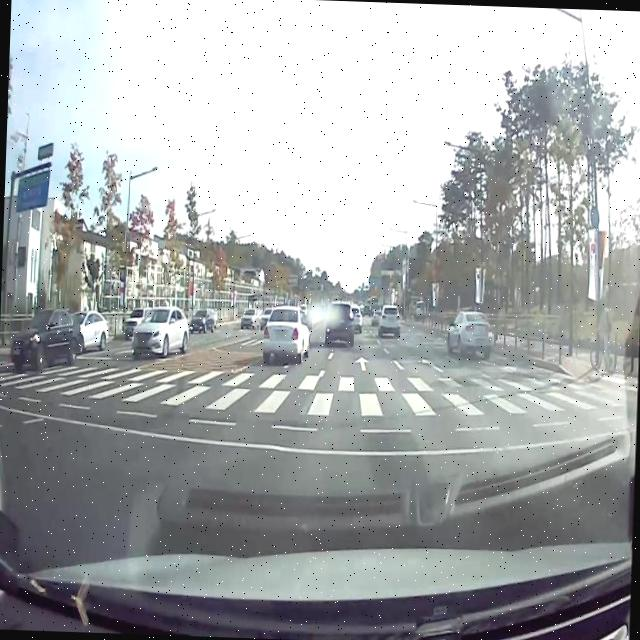crosswalk: (0, 359, 628, 418)
